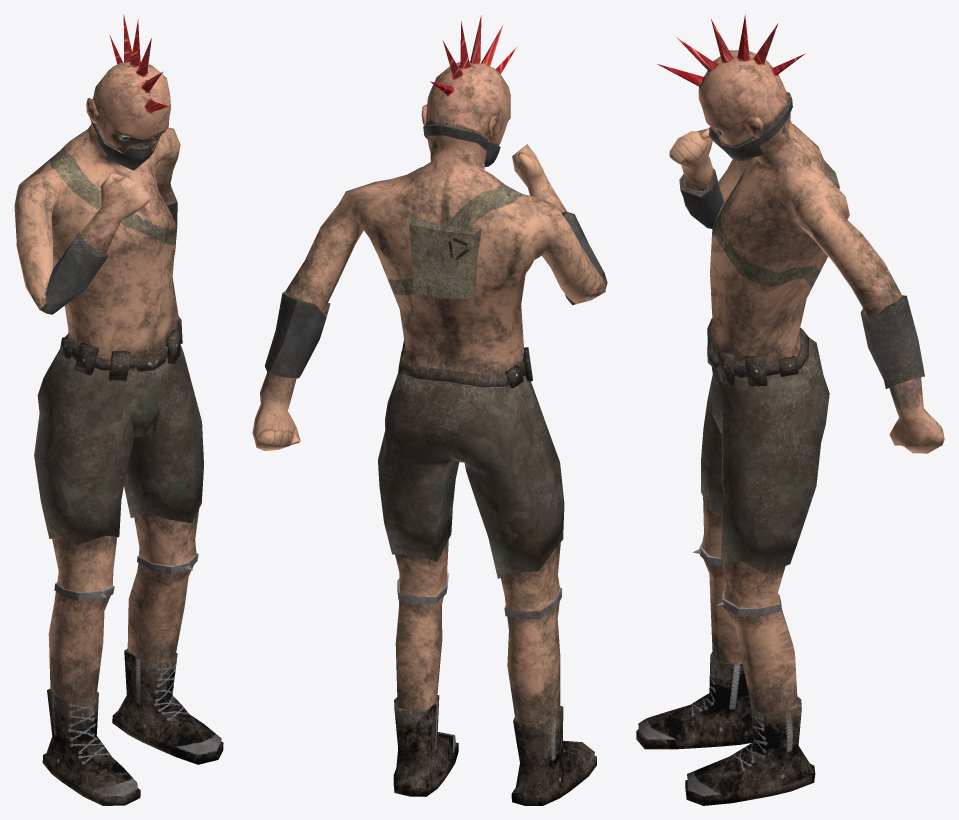
File: Anim_perder_1_npc2.0033.obj
The picture shows the model from 3 angles, left to right: view 1: azimuth 30°, elevation 25°; view 2: azimuth 150°, elevation 25°; view 3: azimuth 270°, elevation 25°; orthographic projection. The views are drawn at different scales.
Visible parts, largest first — view 1: polySurface1; view 2: polySurface1; view 3: polySurface1.
Part boxes in pixels (x1,y1,x2,y2): polySurface1: (14,14,223,805); polySurface1: (252,15,607,805); polySurface1: (636,14,944,805).
Size of the model in its own units: 3.29 by 9.99 by 3.68.
